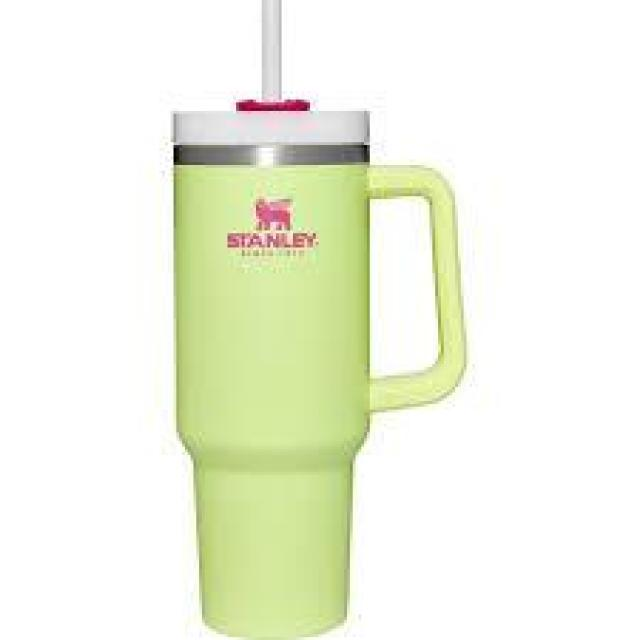bottle: (167, 5, 472, 640)
